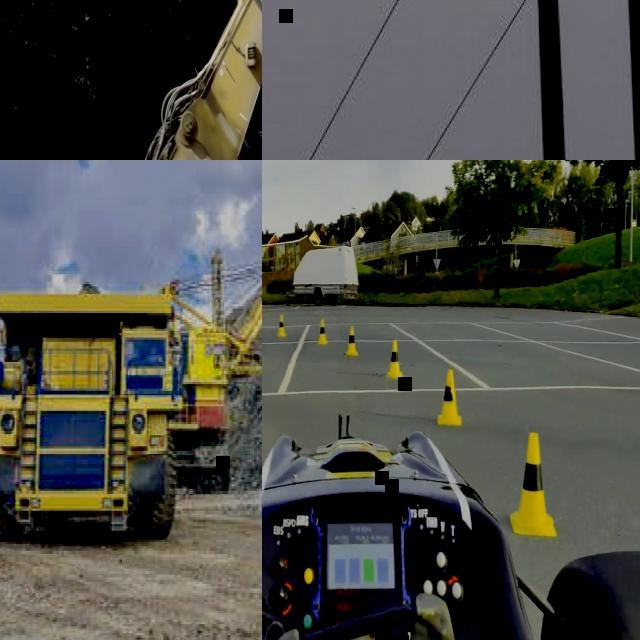Person: (272, 597, 467, 640)
Safety Cone: (512, 428, 559, 540), (439, 368, 461, 428), (388, 337, 405, 379), (346, 325, 358, 358), (277, 312, 288, 340), (318, 317, 328, 347)
machinery: (0, 279, 183, 537), (0, 0, 262, 160), (163, 250, 262, 492)
vehicle: (262, 418, 640, 640)
